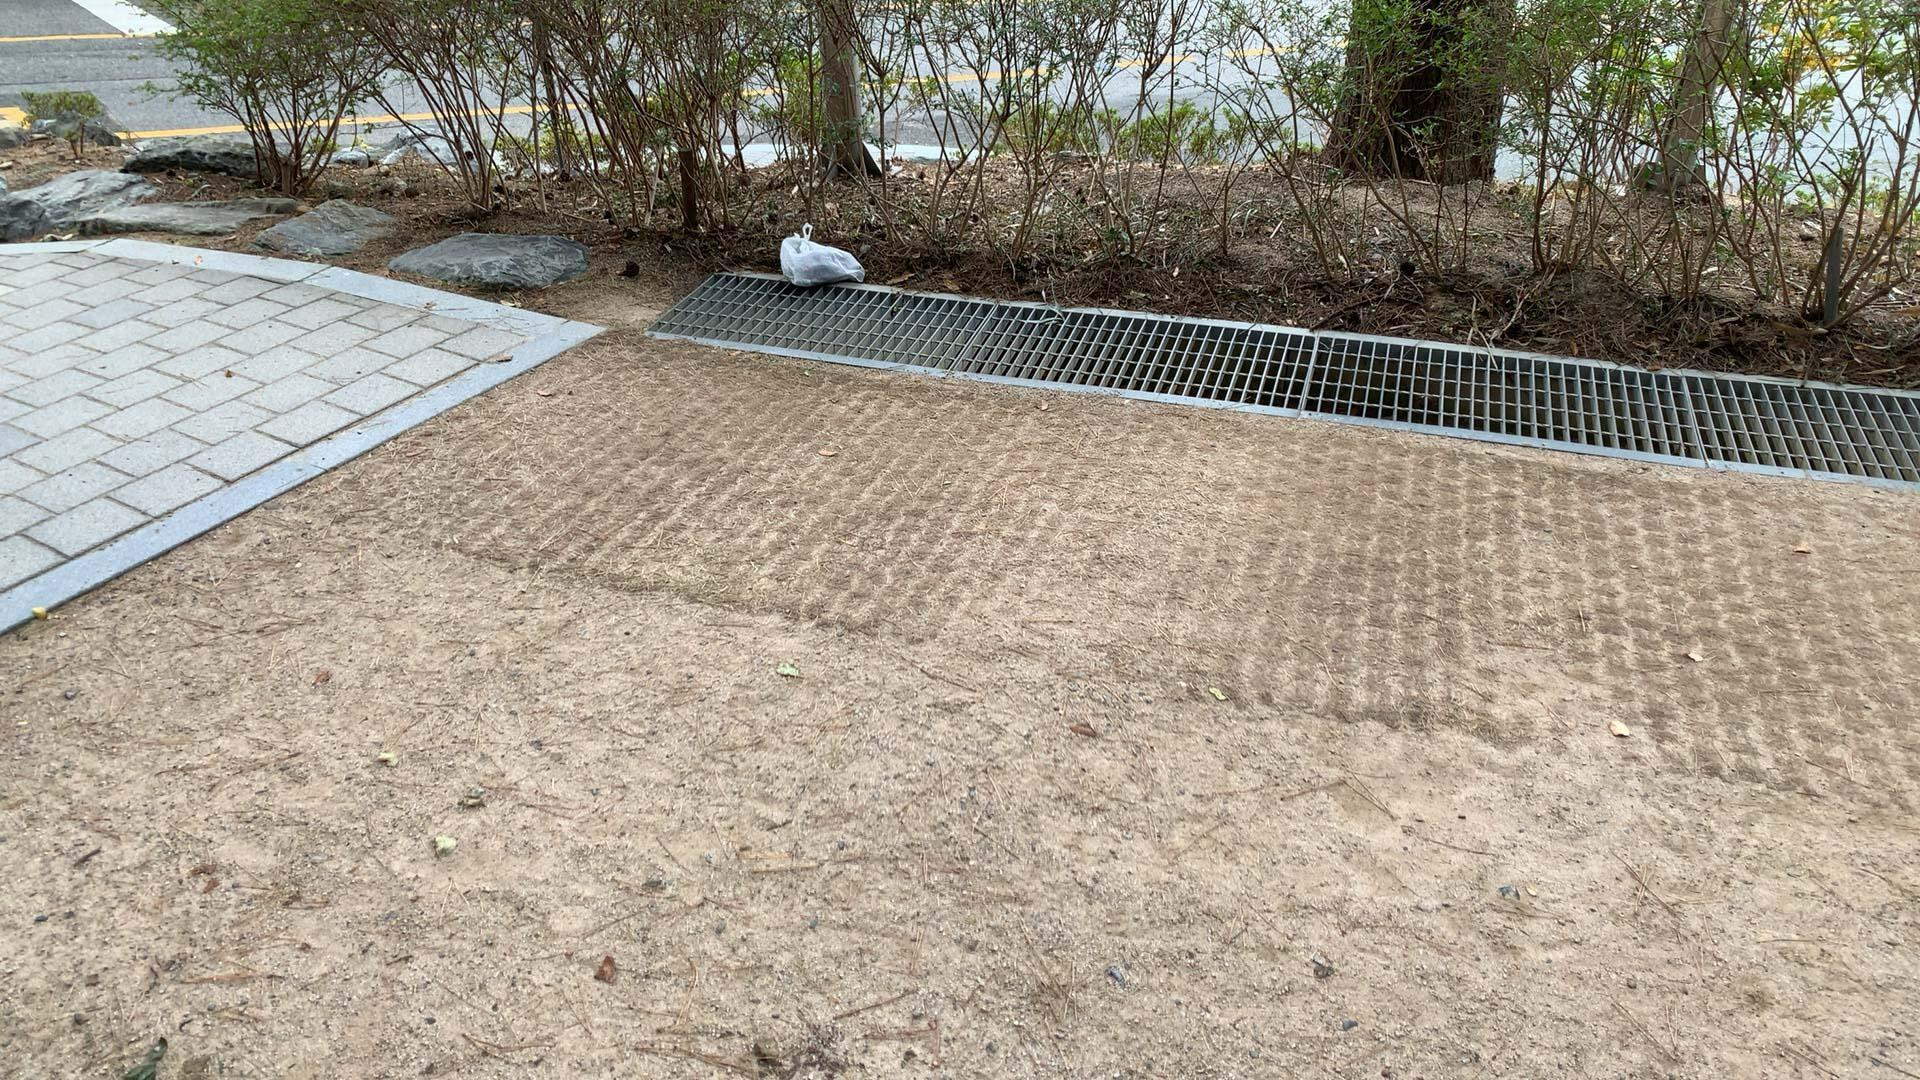white_bag: (771, 218, 873, 290)
